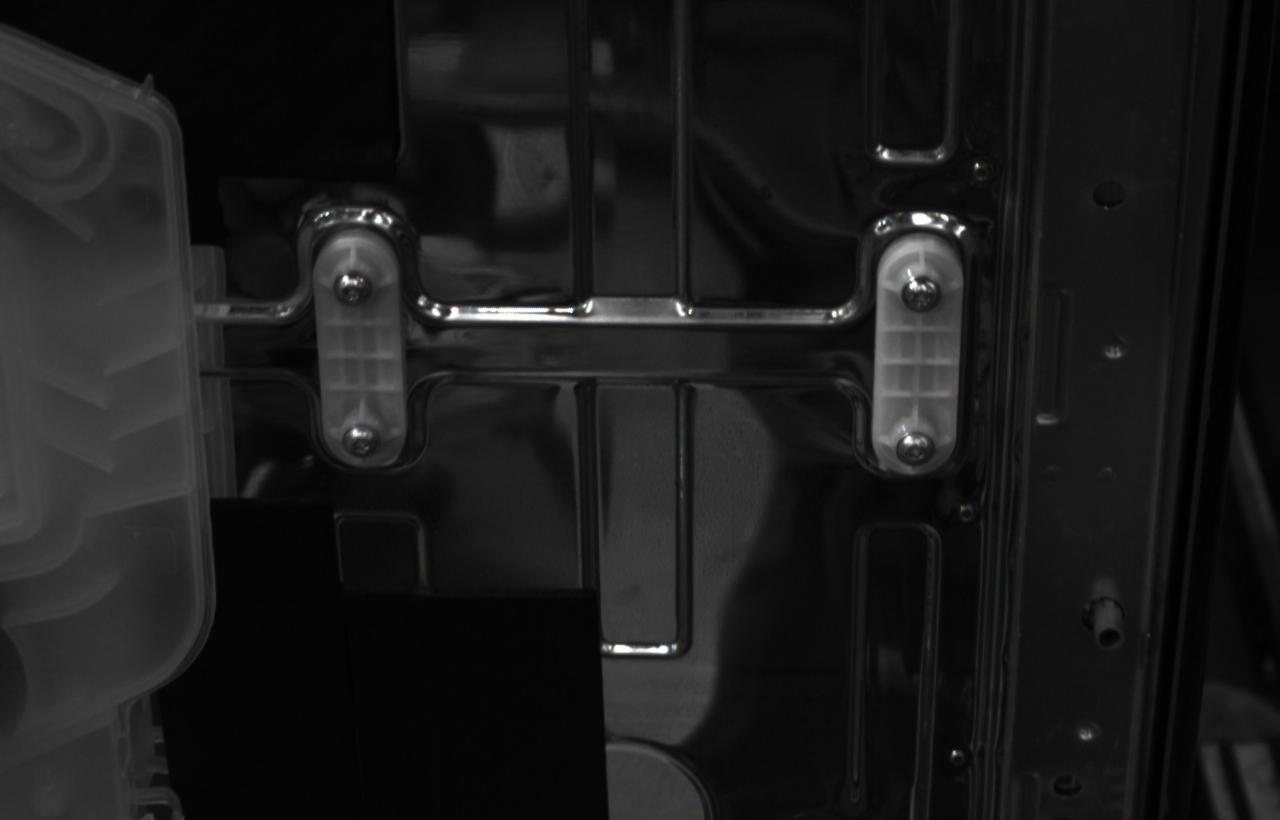vida-ok: (901, 275, 943, 314), (896, 432, 937, 468), (334, 271, 373, 307), (342, 424, 380, 459)
